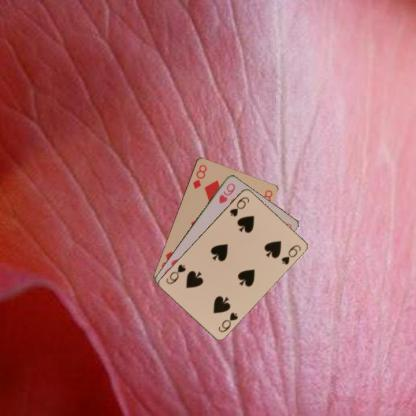6s: (227, 194, 251, 218), (216, 310, 239, 333)
8d: (190, 162, 208, 190)
9h: (216, 180, 236, 205)
